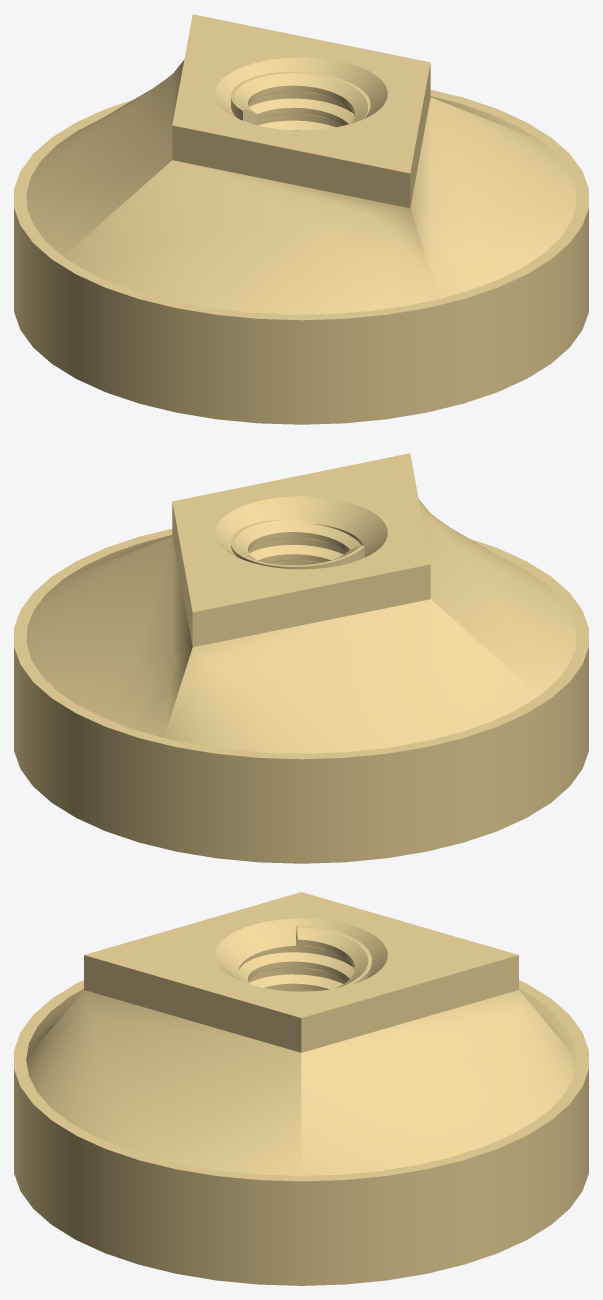
Rendered from strong_vibes_boss.glb.
3 renders of one model, top to bottom at view 1: azimuth 30°, elevation 25°; view 2: azimuth 150°, elevation 25°; view 3: azimuth 270°, elevation 25°, orthographic.
Parts seen in each view (by area): view 1: =>[0:1:1:2]; view 2: =>[0:1:1:2]; view 3: =>[0:1:1:2].
Part boxes in pixels (x1,y1,x2,y2): =>[0:1:1:2]: [14, 14, 588, 424]; =>[0:1:1:2]: [14, 453, 588, 863]; =>[0:1:1:2]: [14, 892, 588, 1285].
Bounding box in the file's own units: 0.03 × 0.012 × 0.0299.
